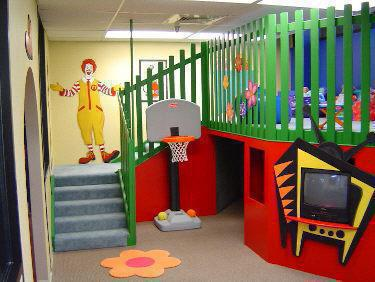Electrodomestico: (289, 167, 361, 228)
Escaleras: (52, 163, 135, 251)
Otro Obstaculo: (142, 98, 211, 229)
